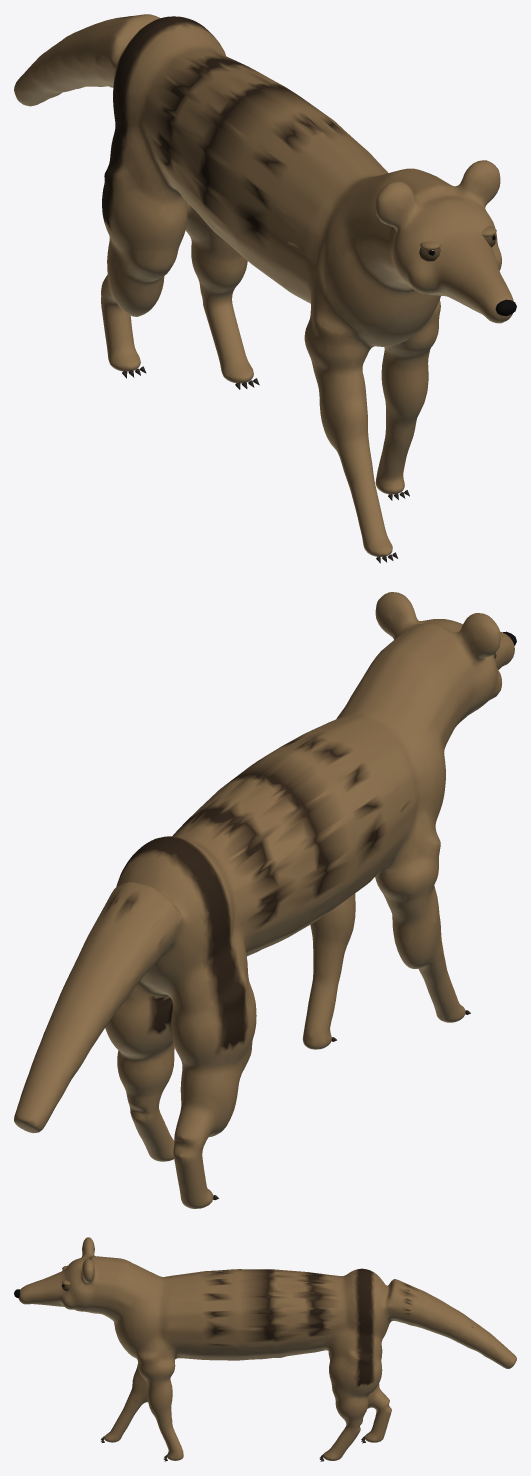
Rendered from ThylacinusCynocephalus.fbx.
The picture shows the model from 3 angles, top to bottom: view 1: azimuth 30°, elevation 25°; view 2: azimuth 150°, elevation 25°; view 3: azimuth 270°, elevation 25°; orthographic projection. The views are drawn at different scales.
Parts seen in each view (by area): view 1: ThylacinusCynocephalus; view 2: ThylacinusCynocephalus; view 3: ThylacinusCynocephalus.
Part boxes in pixels (box(x1,y1,x2,y2)): ThylacinusCynocephalus: box(14, 14, 516, 563); ThylacinusCynocephalus: box(14, 592, 516, 1208); ThylacinusCynocephalus: box(14, 1237, 516, 1461).
Size of the model in its own units: 0.3028 by 0.8265 by 1.87.
